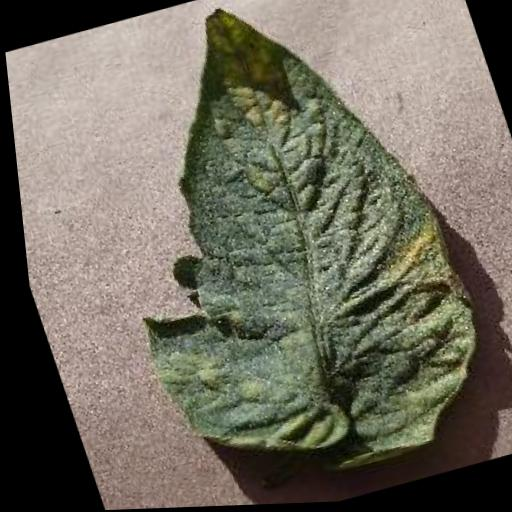Spider Mites: (42, 0, 508, 511)
